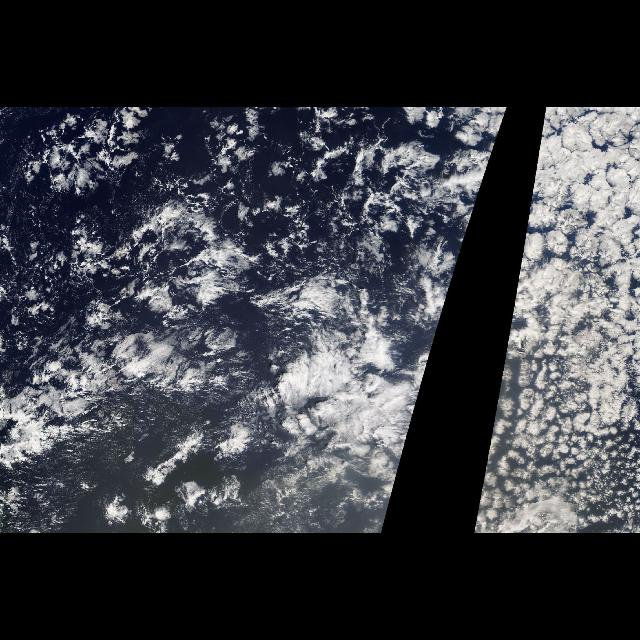Flower: (3, 109, 507, 533), (473, 109, 639, 533)
